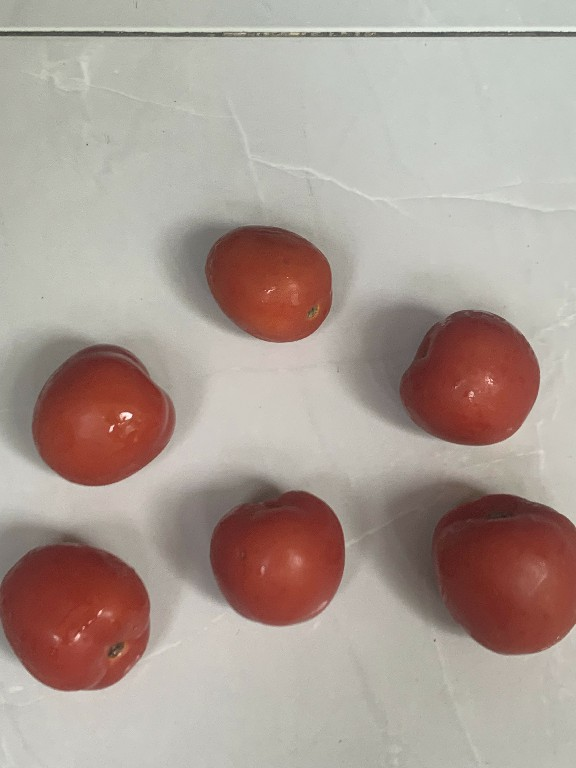OK: (0, 518, 159, 698), (423, 488, 575, 666), (388, 292, 548, 461), (193, 476, 355, 633), (27, 334, 183, 493), (193, 205, 344, 356)
